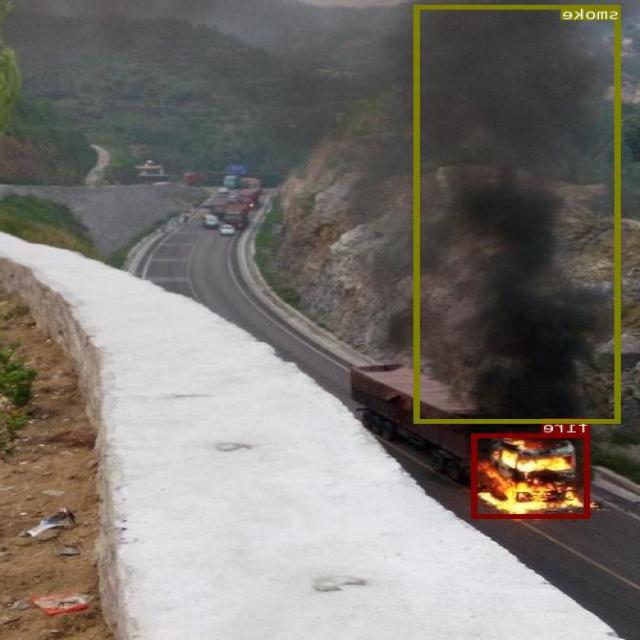fire: (473, 433, 591, 517)
smoke: (416, 4, 622, 423)
